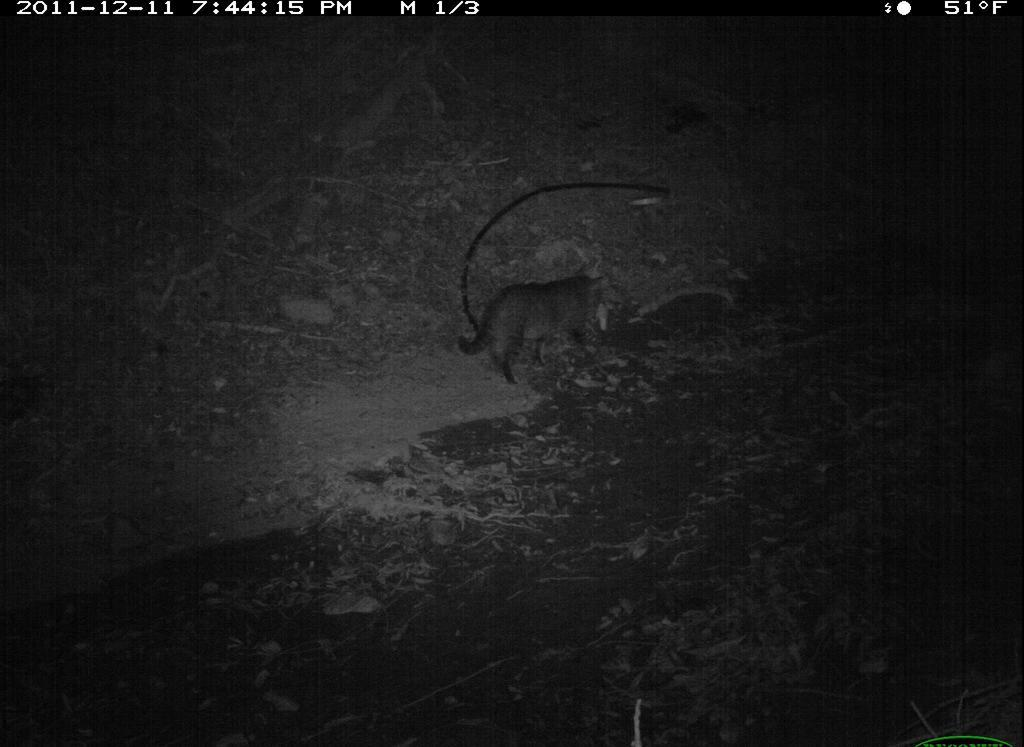cat: (454, 255, 637, 393)
